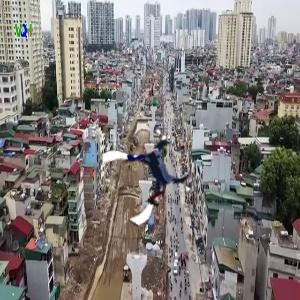drone: (105, 136, 191, 222)
